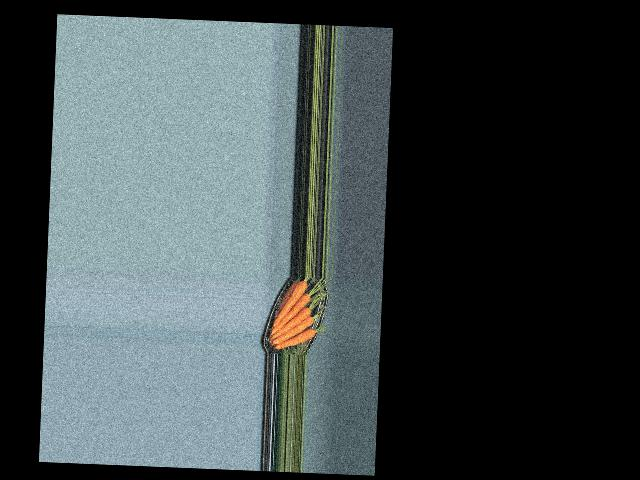carrot: (274, 330, 315, 351)
